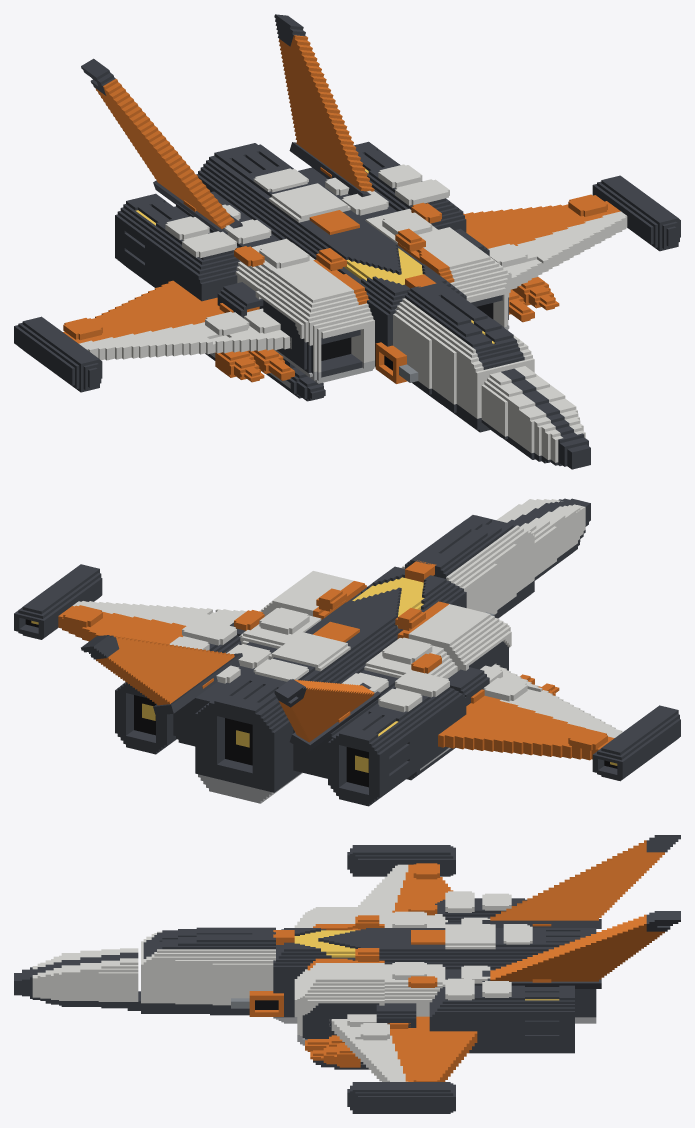
The model's file is FalcoJet_r3_20261106.glb.
3 views of the same model, one above another, from view 1: azimuth 30°, elevation 25°; view 2: azimuth 150°, elevation 25°; view 3: azimuth 270°, elevation 25° (orthographic). The views are drawn at different scales.
Parts seen in each view (by area): view 1: JetBody, JetWingR, JetWingL, JetCockpit, JetTailL, JetTailR; view 2: JetBody, JetWingR, JetWingL, JetCockpit, JetTailL, JetTailR; view 3: JetBody, JetWingL, JetCockpit, JetTailR, JetTailL, JetWingR.
Boxes of the visible parts, x1,y1,x2,y2 form: JetBody: (115, 141, 590, 469); JetWingR: (14, 280, 291, 392); JetWingL: (463, 175, 680, 310); JetCockpit: (393, 281, 534, 432); JetTailL: (274, 14, 374, 196); JetTailR: (81, 58, 242, 234); JetBody: (115, 498, 590, 806); JetWingR: (438, 663, 680, 781); JetWingL: (14, 564, 246, 644); JetCockpit: (401, 514, 534, 618); JetTailL: (81, 635, 242, 715); JetTailR: (274, 679, 380, 752); JetBody: (14, 891, 596, 1069); JetWingL: (310, 1014, 477, 1113); JetCockpit: (141, 927, 275, 1015); JetTailR: (482, 835, 680, 928); JetTailL: (482, 911, 680, 988); JetWingR: (347, 845, 455, 913).
Bounding box in the file's own units: 11.15 × 3.3 × 12.6.
1 material, 1 textured.
